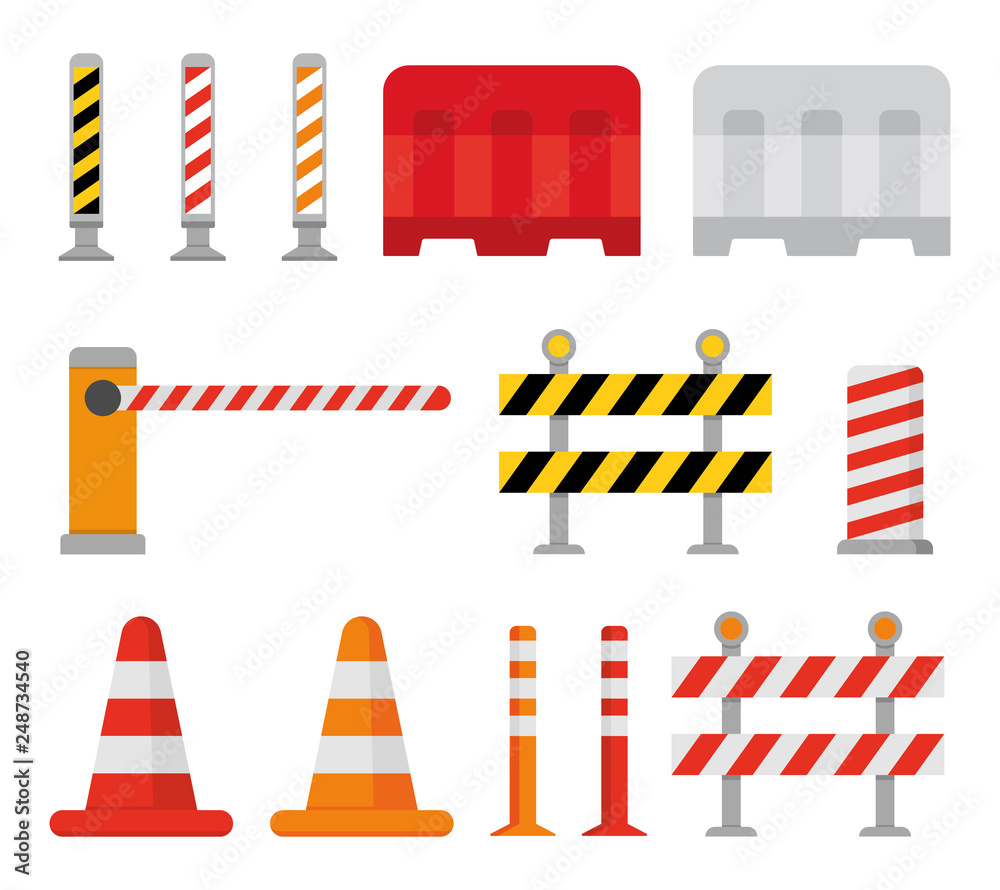Barrier: (49, 344, 468, 564), (482, 328, 780, 554), (665, 614, 962, 840), (685, 65, 965, 265), (373, 65, 650, 262)
Road_cone: (262, 604, 460, 843), (51, 614, 235, 836)
